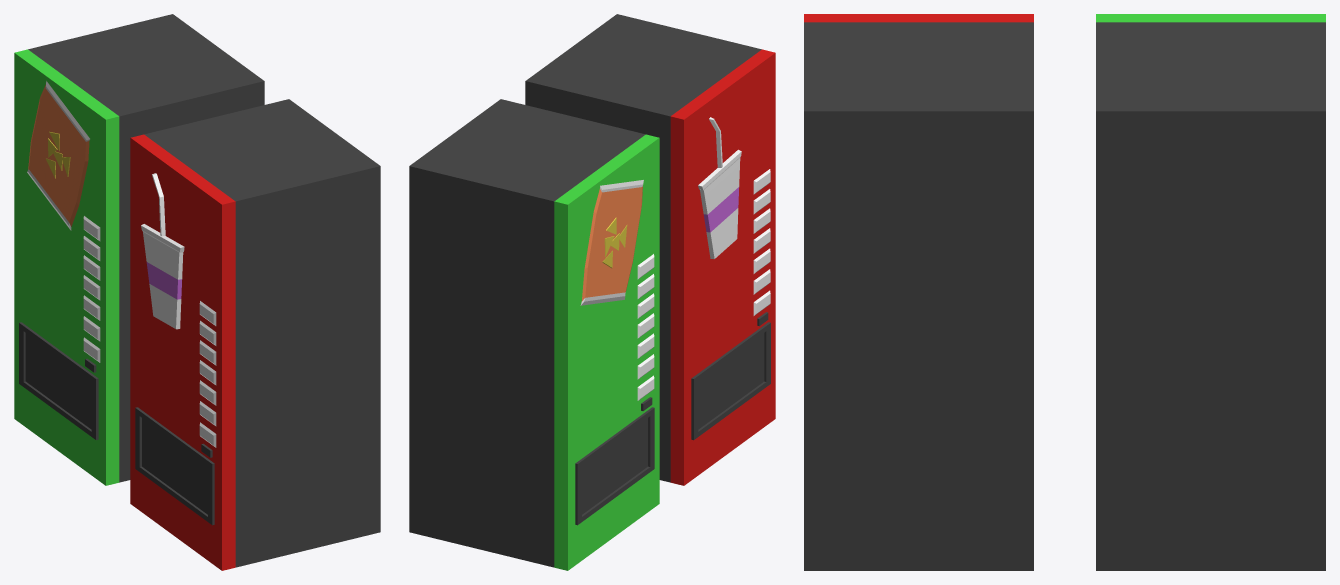
Rendered from Vending Machines.fbx.
3 renders of one model, left to right at view 1: azimuth 30°, elevation 25°; view 2: azimuth 150°, elevation 25°; view 3: azimuth 270°, elevation 25°, orthographic. The views are drawn at different scales.
Visible parts, largest first — view 1: Drink Vending Machine, Food Vending Machine; view 2: Food Vending Machine, Drink Vending Machine; view 3: Food Vending Machine, Drink Vending Machine.
Boxes of the visible parts, <box> form: Drink Vending Machine: <box>130,99,380,570</box>; Food Vending Machine: <box>14,14,264,485</box>; Food Vending Machine: <box>409,99,659,570</box>; Drink Vending Machine: <box>525,14,775,485</box>; Food Vending Machine: <box>1096,14,1325,570</box>; Drink Vending Machine: <box>804,14,1033,570</box>.
Bounding box in the file's own units: 12.02 × 25.89 × 26.62.
